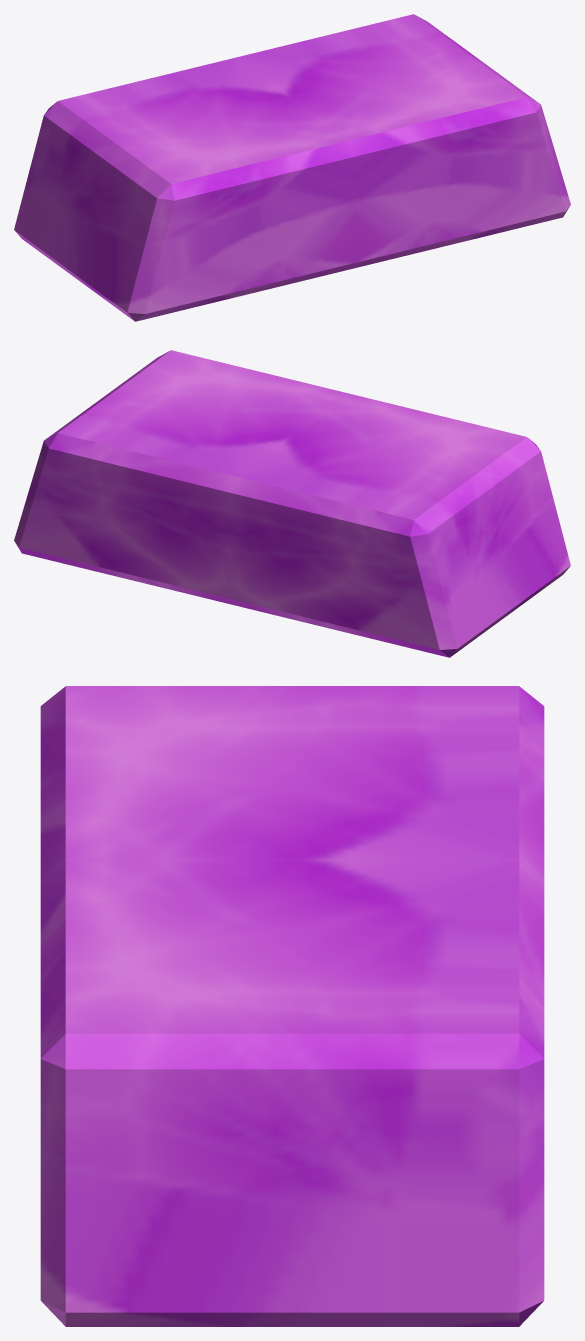
File: CursedmetalIngot.fbx
The picture shows the model from 3 angles, top to bottom: view 1: azimuth 30°, elevation 25°; view 2: azimuth 150°, elevation 25°; view 3: azimuth 270°, elevation 25°; orthographic projection. The views are drawn at different scales.
Visible parts, largest first — view 1: MetalIngot.003; view 2: MetalIngot.003; view 3: MetalIngot.003.
Boxes of the visible parts, <box> form: MetalIngot.003: <box>14,14,570,321</box>; MetalIngot.003: <box>14,350,570,657</box>; MetalIngot.003: <box>40,686,544,1326</box>.
Size of the model in its own units: 190 by 52.86 by 93.51.
